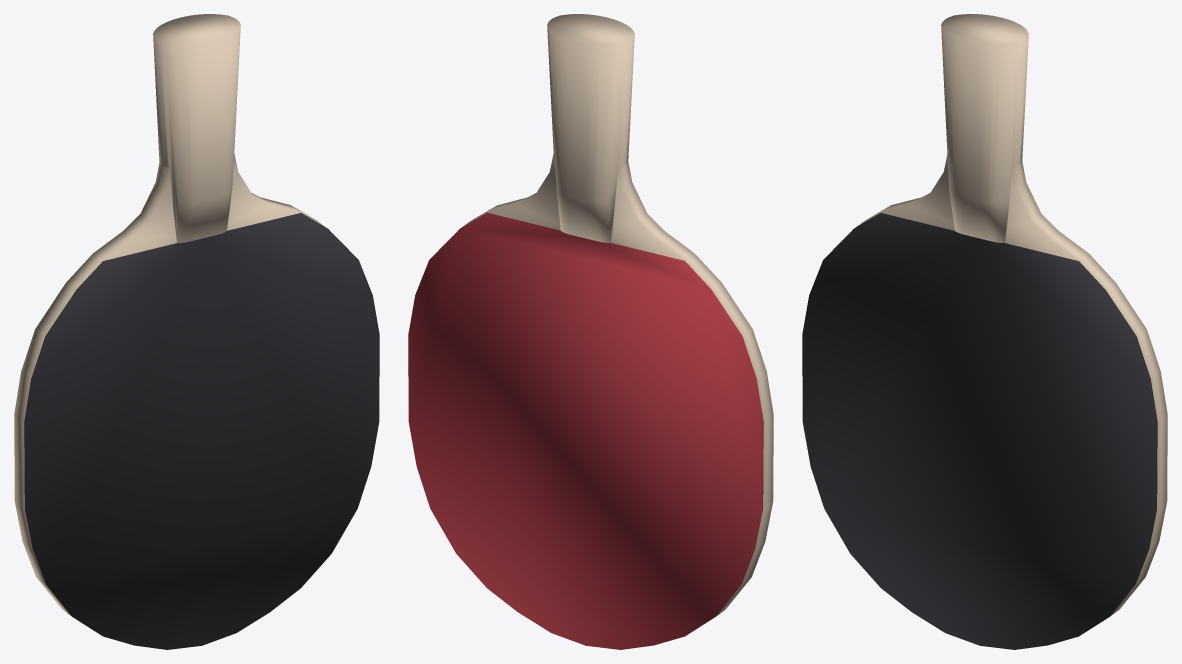
The model's file is paddle.gltf.
The picture shows the model from 3 angles, left to right: view 1: azimuth 30°, elevation 25°; view 2: azimuth 150°, elevation 25°; view 3: azimuth 330°, elevation 25°; orthographic projection.
Visible parts, largest first — view 1: Paddle; view 2: Paddle; view 3: Paddle.
Boxes of the visible parts, left/top/right/bottom form: Paddle: left=14, top=14, right=379, bottom=649; Paddle: left=408, top=14, right=773, bottom=649; Paddle: left=802, top=14, right=1167, bottom=649.
Size of the model in its own units: 3.04 by 5.01 by 0.48.
1 material, 1 textured.
